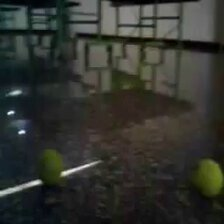tennis: (192, 159, 224, 200), (37, 148, 64, 184)
